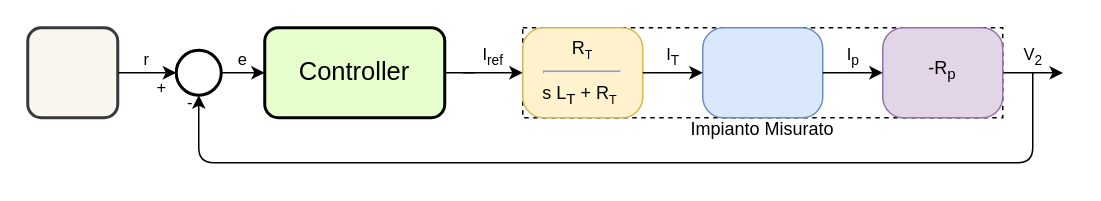
This 1101x201 diagram has some shape labels left out. The shapes that lost their labels are listed below. From the top down, each one's centre as x and y in pixels, then its label:
At pixel 72 72: "Ref V 2".
At pixel 762 72: "- s M Tp s L p + R p".
